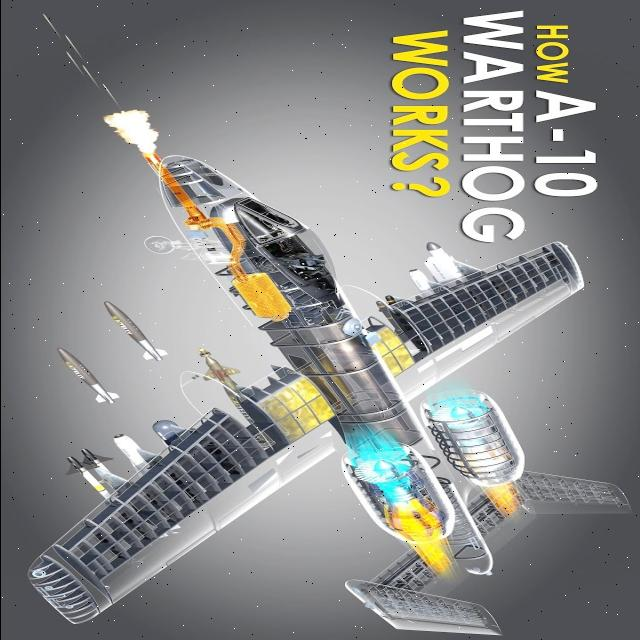A10: (1, 86, 628, 640)
